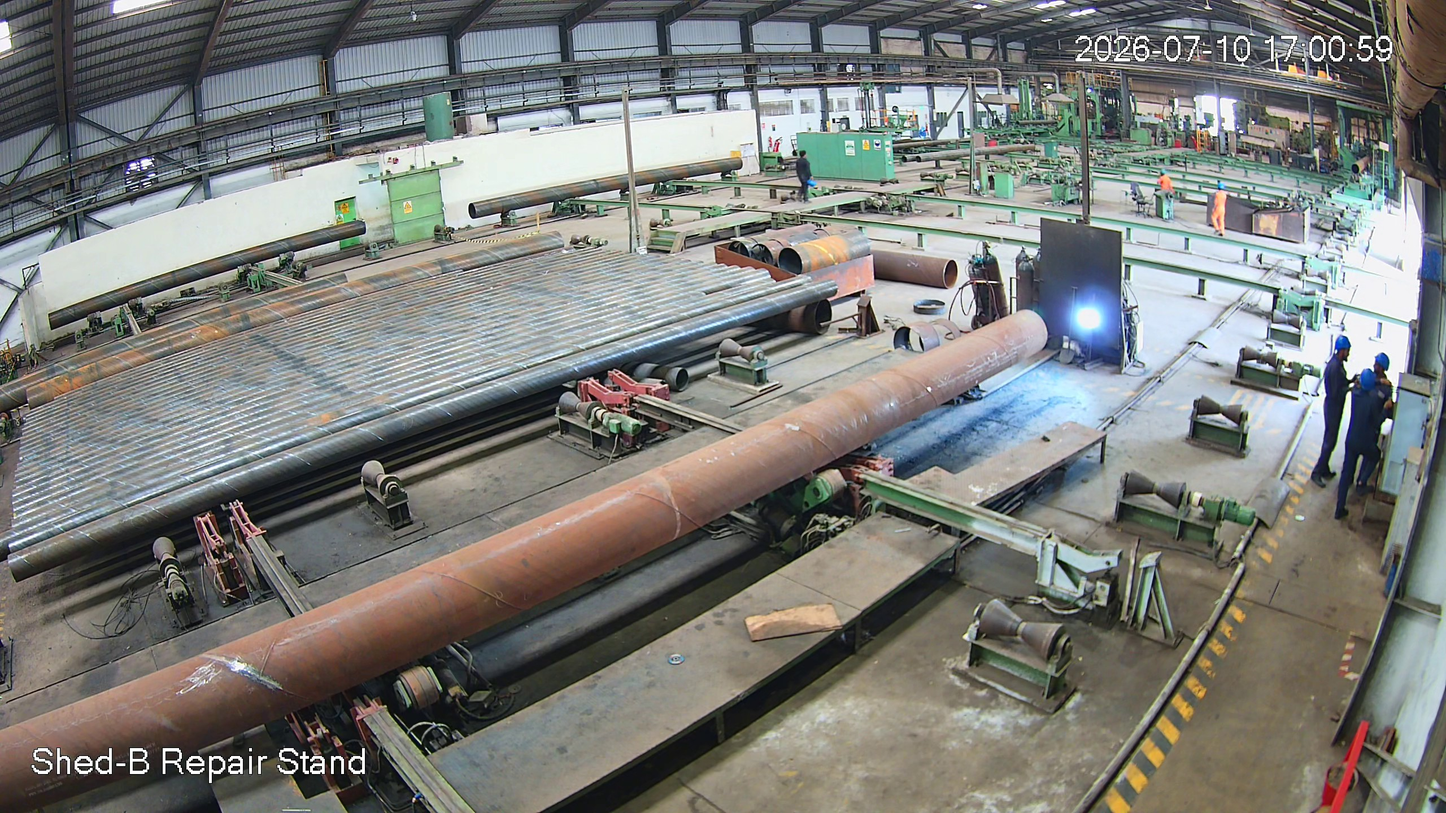Helmet: (1366, 350, 1391, 393), (1330, 330, 1356, 366)
Person: (1339, 352, 1392, 519), (1307, 333, 1354, 492)
